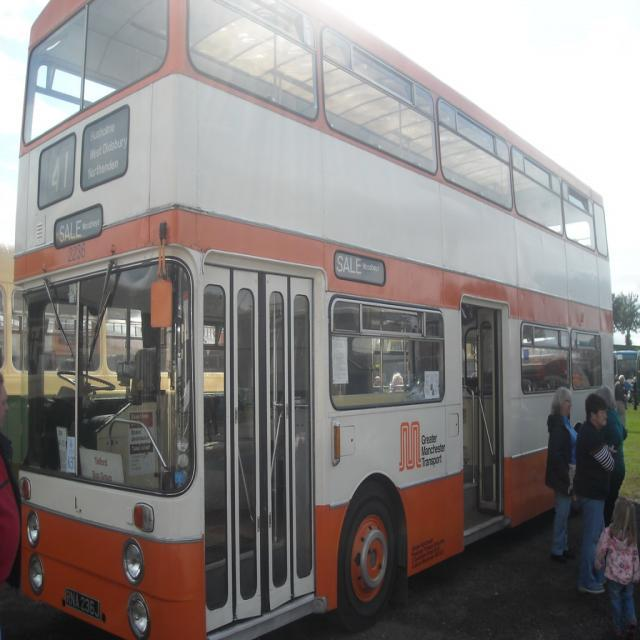motorcycle: (20, 0, 617, 639), (0, 240, 230, 500), (610, 348, 638, 392)
